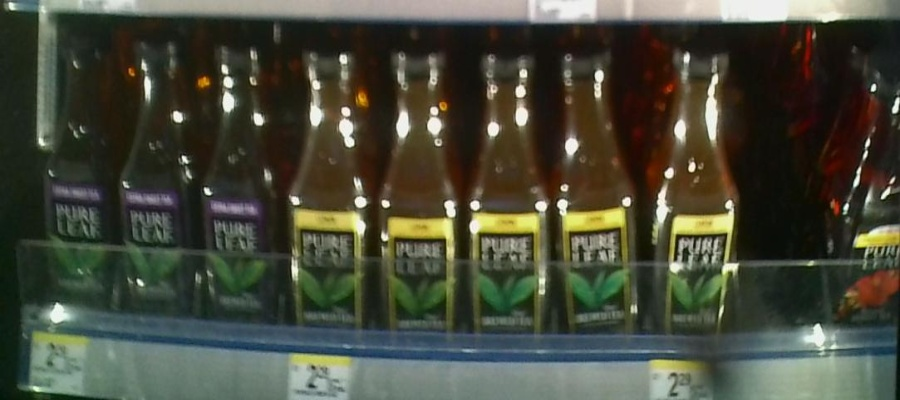bottle: (551, 38, 642, 346), (650, 37, 738, 354), (281, 42, 372, 341), (461, 38, 549, 347), (377, 38, 460, 347), (196, 32, 280, 333), (40, 19, 115, 322), (117, 27, 193, 326), (824, 66, 899, 345)
